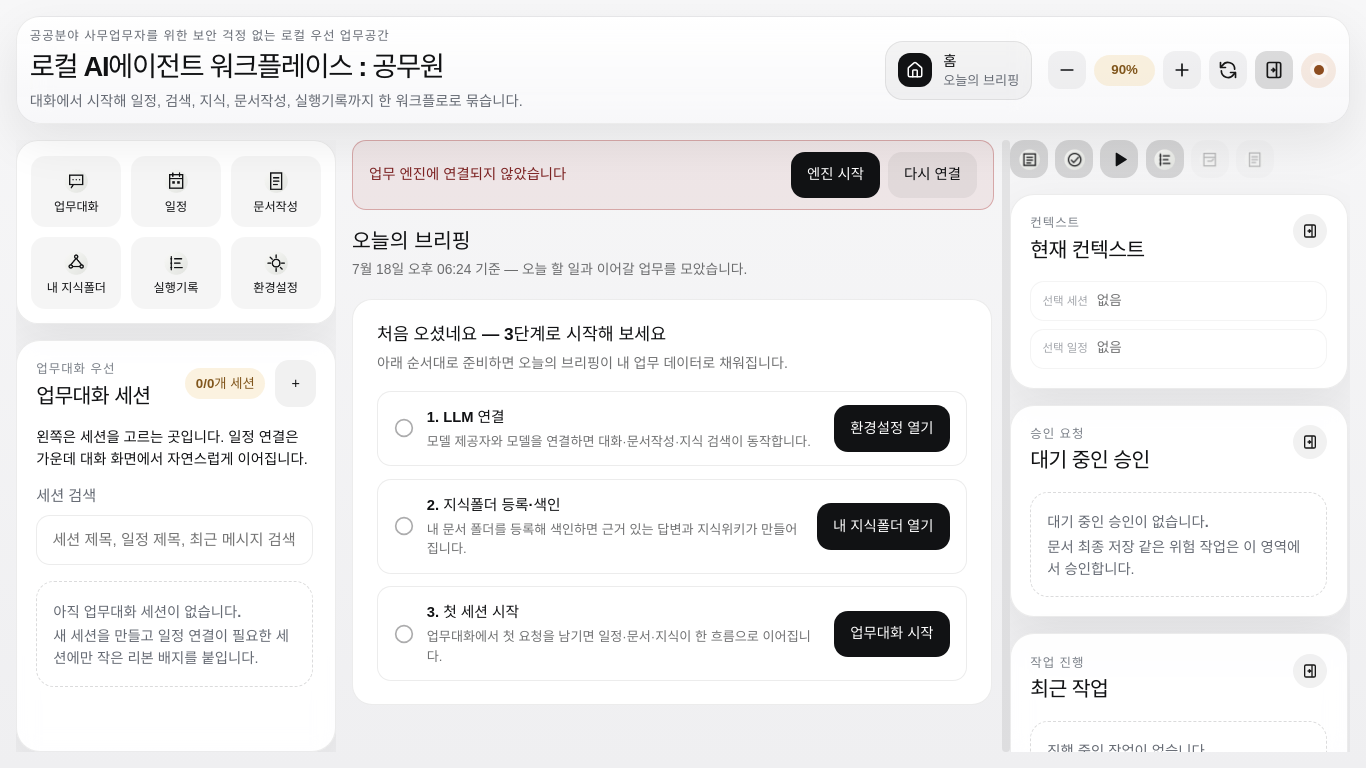
Test: topic vocabulary pack import and candidate queue (vocab spec §5·§6) › approves and merges pending vocab candidates from the settings section (§6)
Click the button "내 지식폴더": point(76, 273) left=31, top=237, right=121, bottom=309
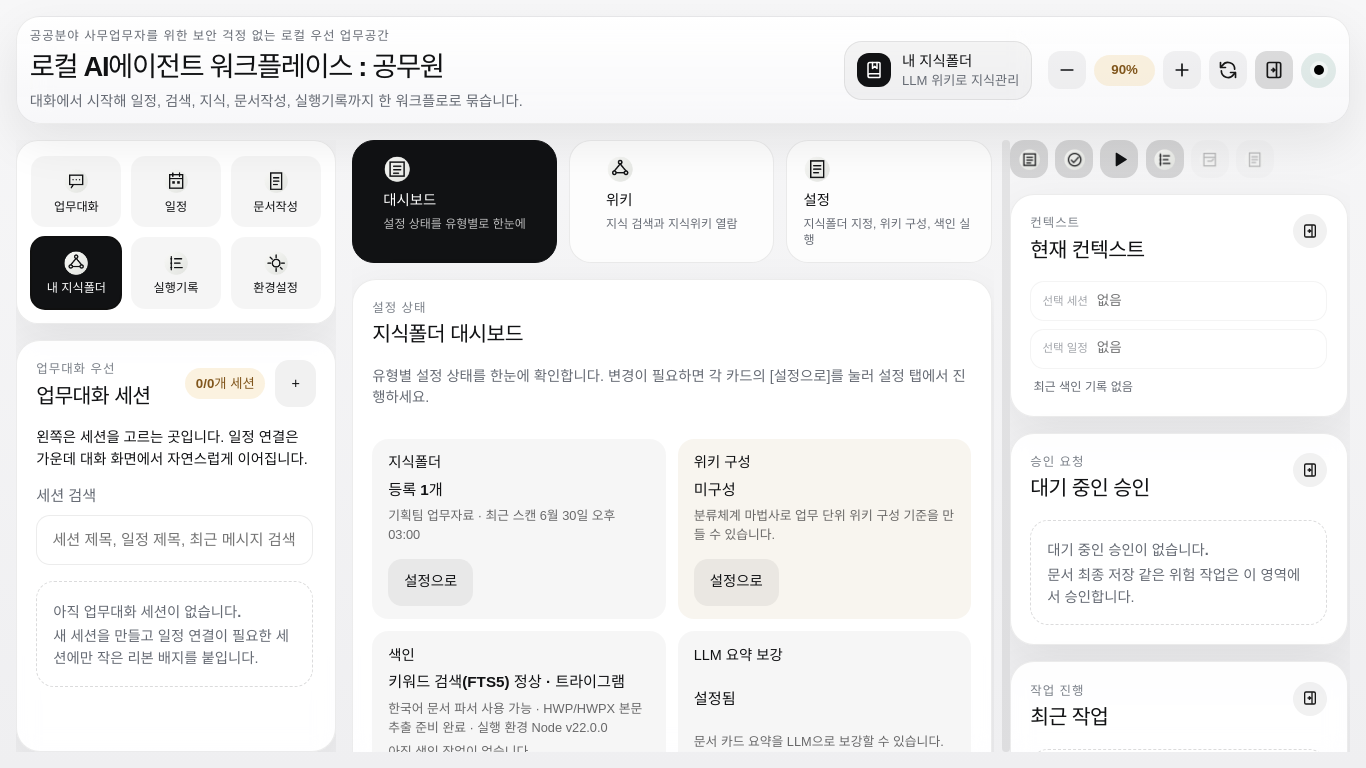
Click the tab "설정 지식폴더 지정, 위키 구성, 색인 실행": point(889, 201) left=786, top=140, right=992, bottom=263
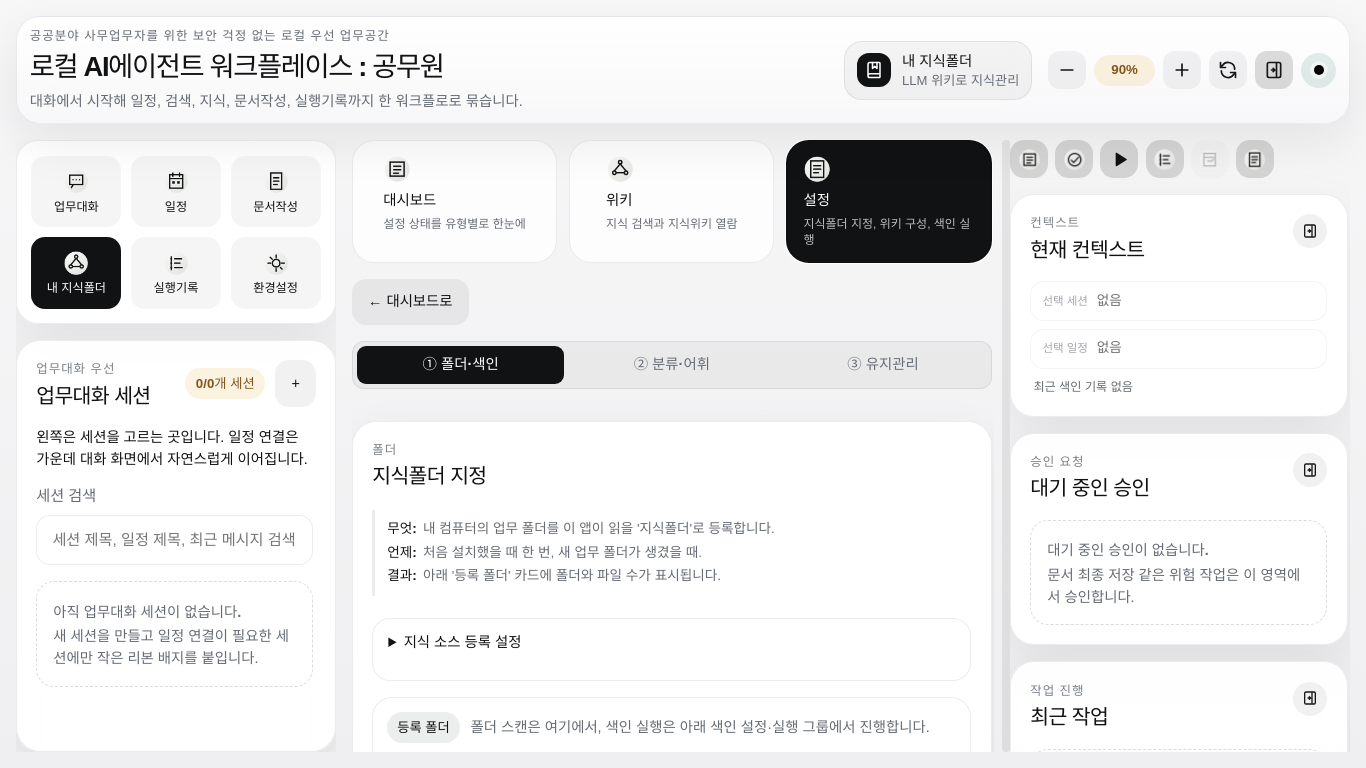
Click the button with test id "knowledge-settings-nav-taxonomy": point(672, 365) left=568, top=346, right=775, bottom=384
(page scrolled)
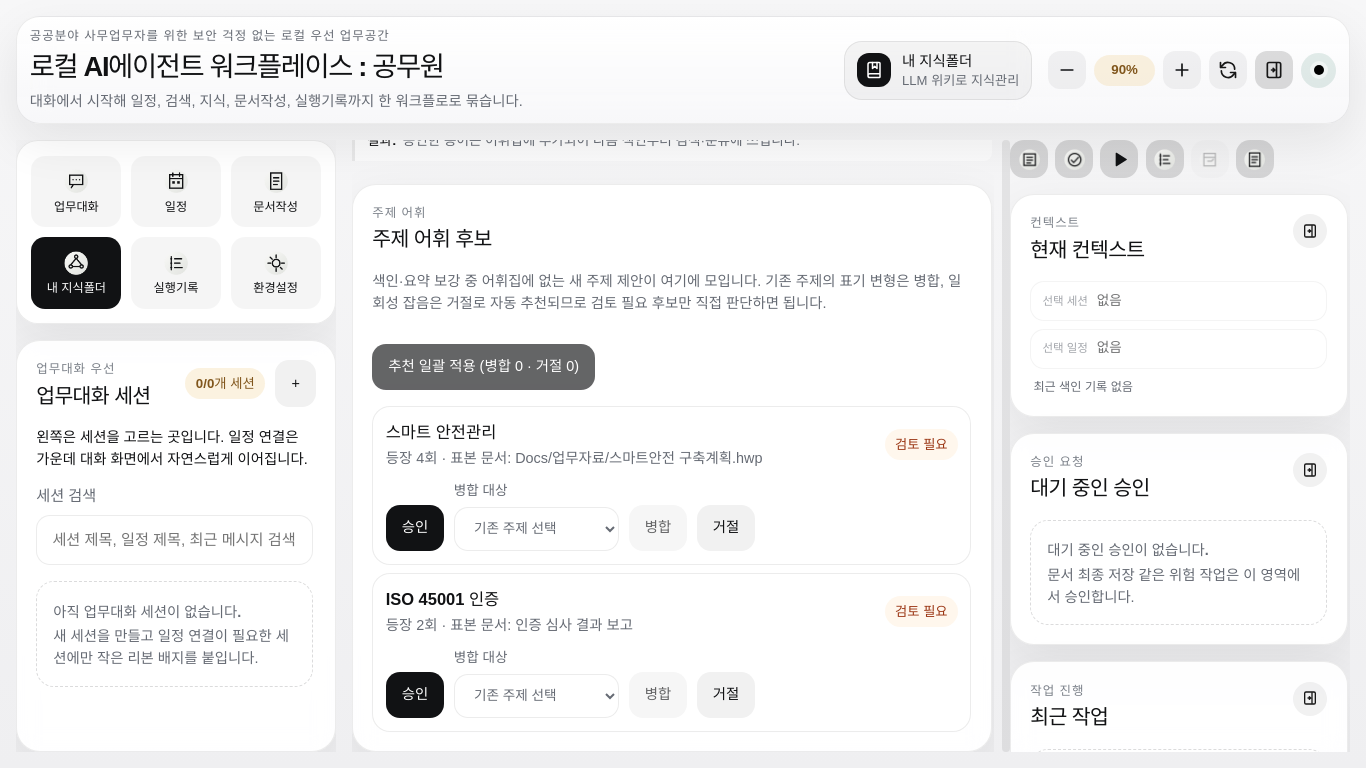
expect the number of elements with test id "vocab-candidate-item" is 2: met, box left=372, top=406, right=971, bottom=564; left=372, top=573, right=971, bottom=732
expect the element with test id "vocab-candidate-item" shows "스마트 안전관리": met, box left=386, top=423, right=496, bottom=441
expect the element with test id "vocab-candidate-item" shows "등장 4회": met, box left=372, top=406, right=971, bottom=564
Click the button "승인" below "· 표본 문서: Docs/업무자료/스마트안전 구축계획.hwp": point(415, 528) left=386, top=504, right=444, bottom=551
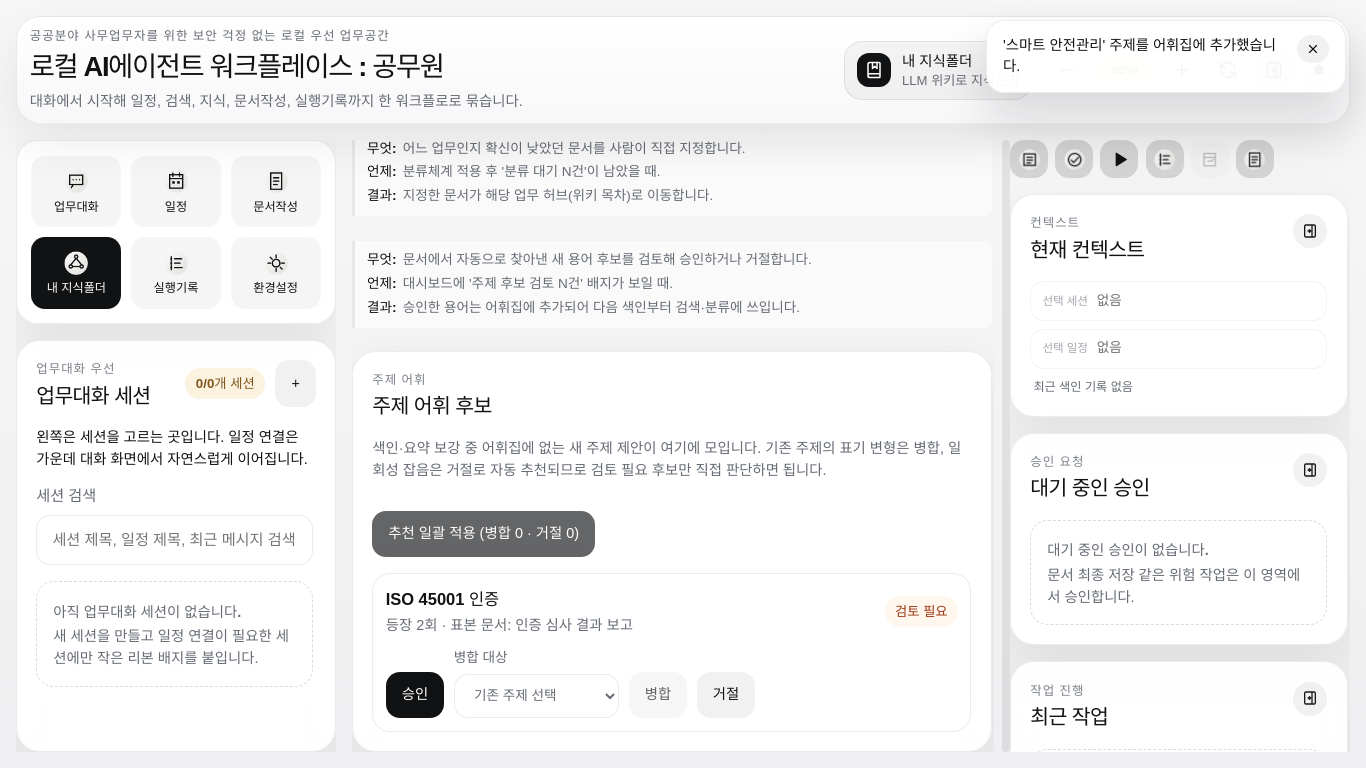
expect the number of elements with test id "vocab-candidate-item" is 1: met, box left=372, top=573, right=971, bottom=732
expect the text "'스마트 안전관리' 주제를 어휘집에 추가했습니다." is shown: met, box left=1003, top=35, right=1285, bottom=77
Select "안전보건경영시스템" in the dropdown named "ISO 45001 인증 병합 대상 선택": point(536, 696) left=454, top=674, right=619, bottom=718
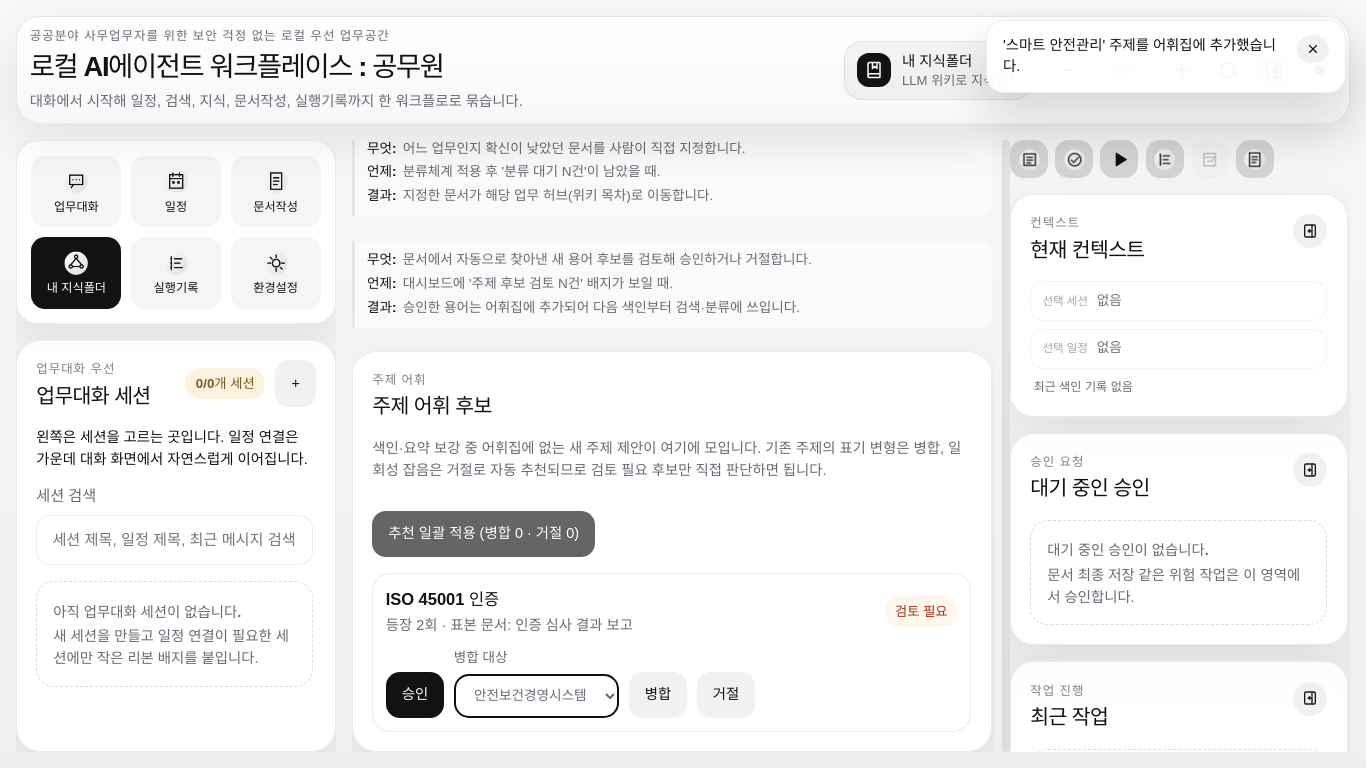
Click the button "병합": point(658, 695) left=629, top=672, right=687, bottom=718
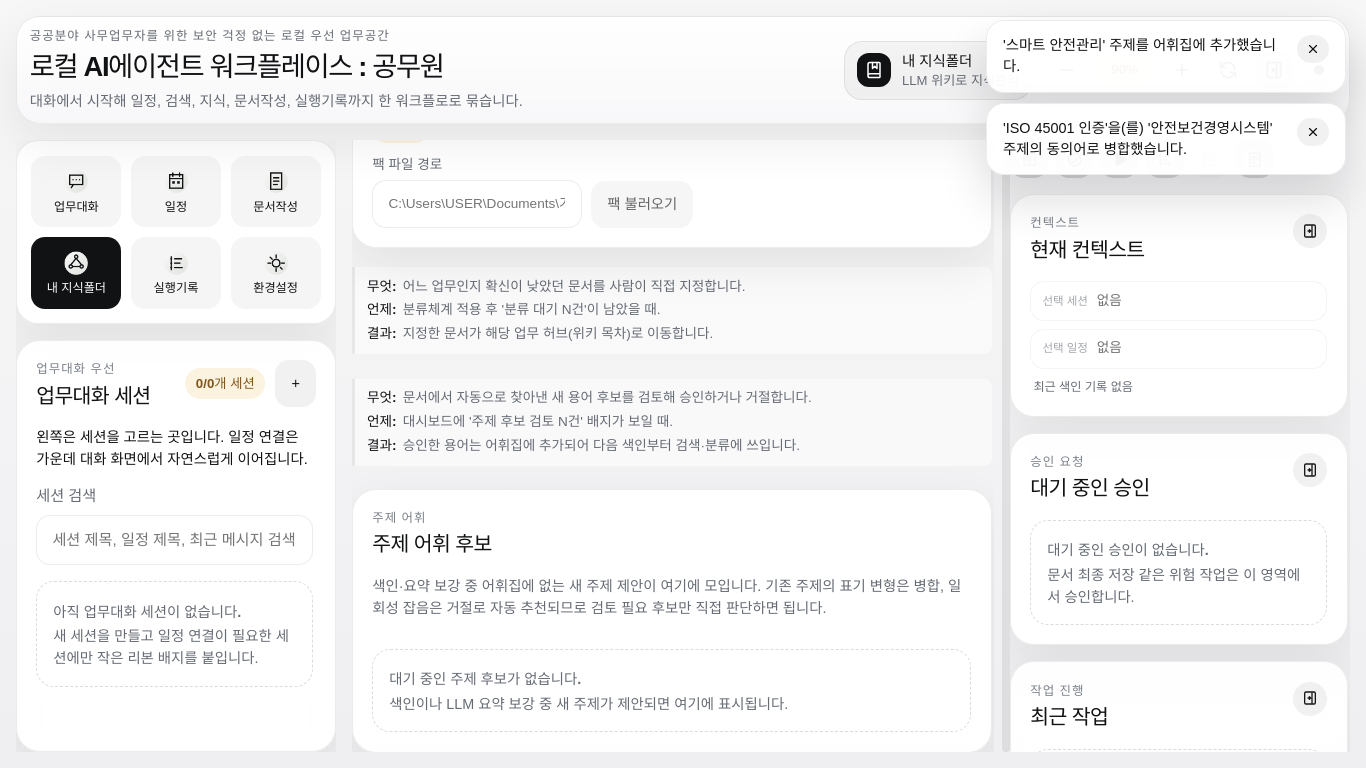
expect the element with test id "vocab-candidate-item" is gone: met
expect the text "대기 중인 주제 후보가 없습니다." is shown: met, box left=389, top=671, right=581, bottom=687
